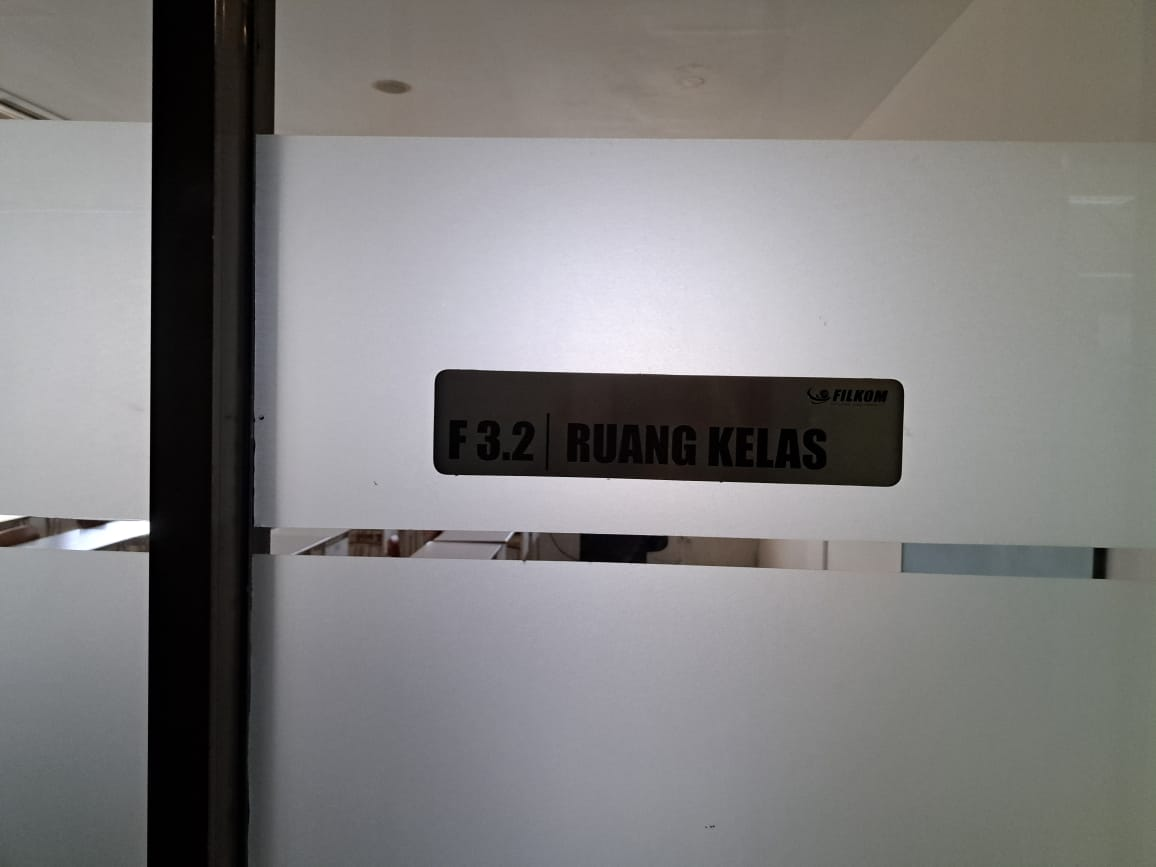ruangan: (423, 362, 912, 495)
